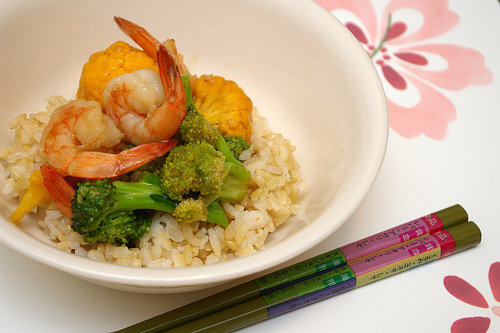cauliflower: (12, 40, 252, 245)
